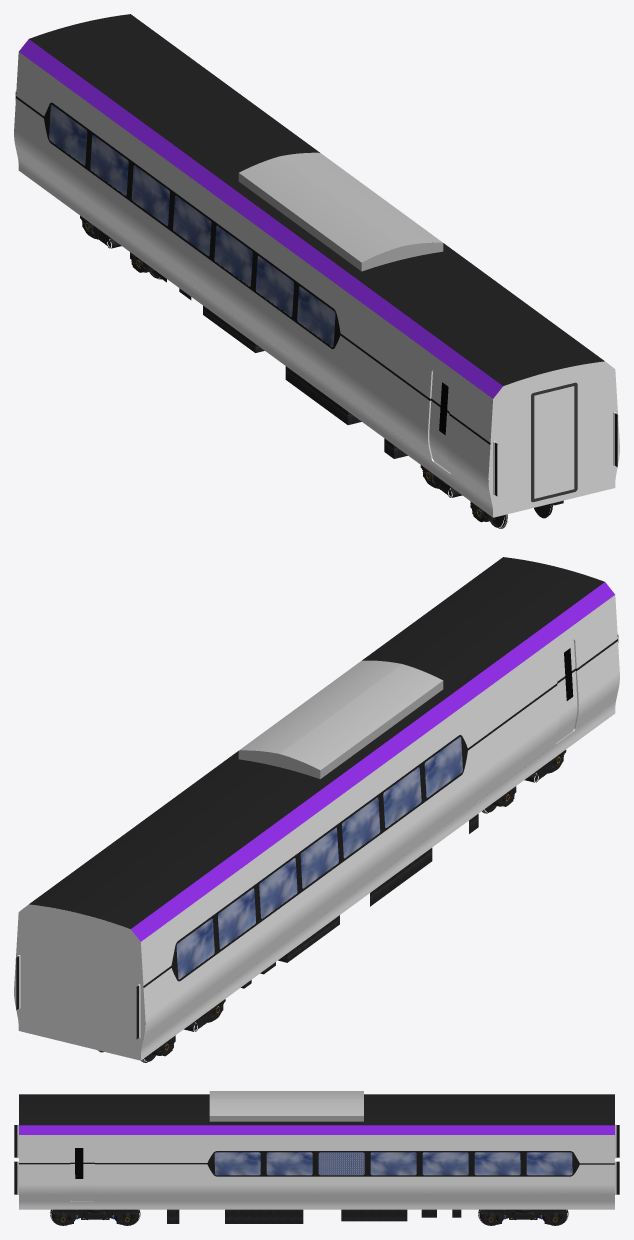
Rendered from JRE353-simple-car3.glb.
The picture shows the model from 3 angles, top to bottom: view 1: azimuth 30°, elevation 25°; view 2: azimuth 150°, elevation 25°; view 3: azimuth 270°, elevation 25°; orthographic projection. The views are drawn at different scales.
Parts seen in each view (by area): view 1: skpFC3B; view 2: skpFC3B; view 3: skpFC3B.
Part boxes in pixels (<box>): skpFC3B: <box>14,14,619,528</box>; skpFC3B: <box>14,557,619,1062</box>; skpFC3B: <box>14,1091,619,1225</box>.
Bounding box in the file's own units: 3.12 × 4.33 × 19.82.
Materials: 14 (7 with a texture image).
